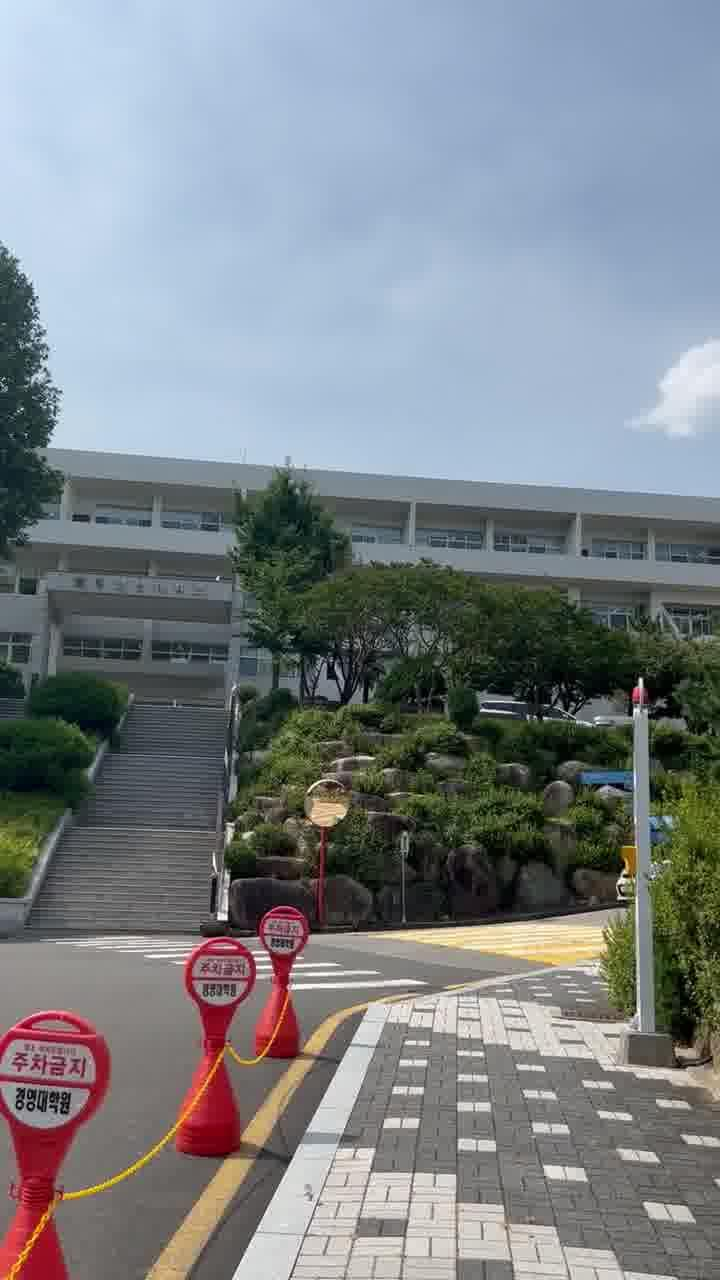building: (46, 404, 248, 700)
